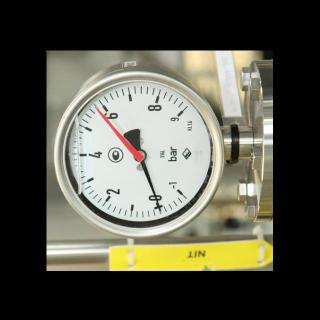gauge: (46, 63, 228, 241), (167, 178, 189, 202), (176, 104, 193, 122), (132, 148, 146, 162), (90, 103, 100, 113), (156, 206, 164, 214)
